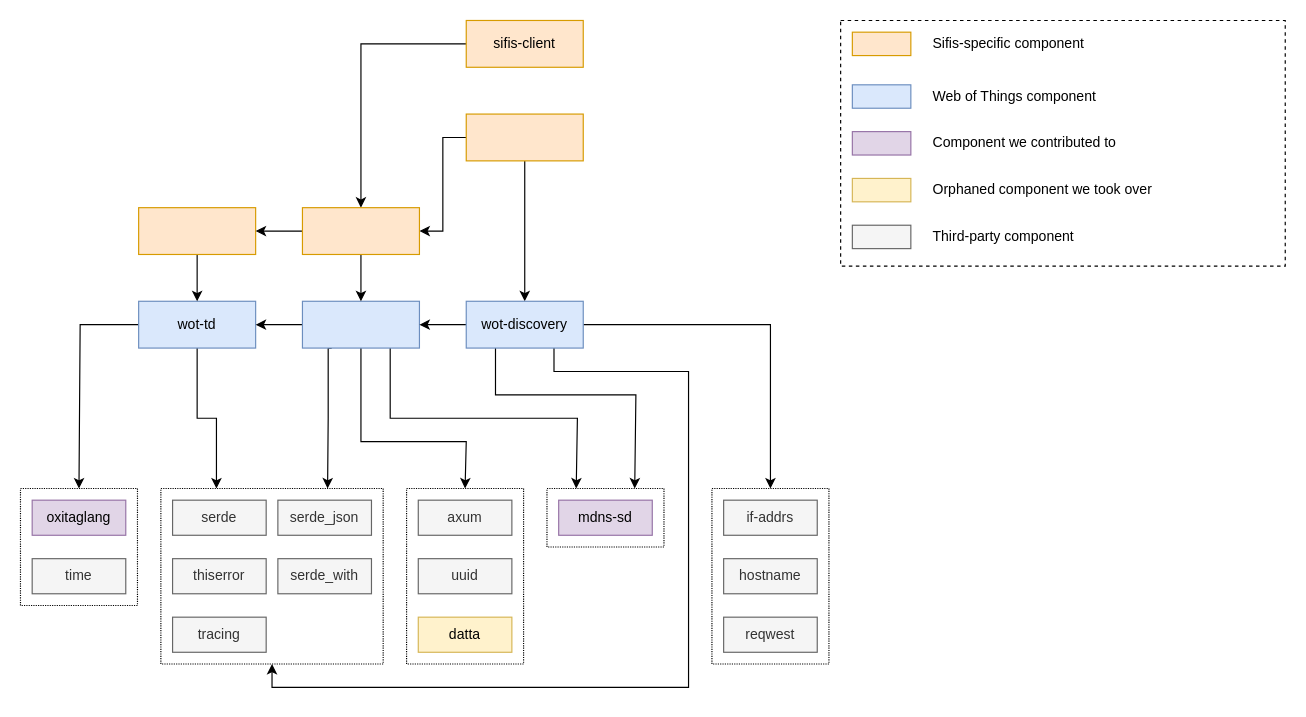
The diagram is 1306 pixels wide and 717 high, and some of its shapes have lost their labels. The centre of each missing label's shape, as x and y in pixels:
sifis: point (360, 230)
sifis-ext: point (196, 230)
sifis-runtime: point (524, 137)
wot-serve: point (360, 324)
